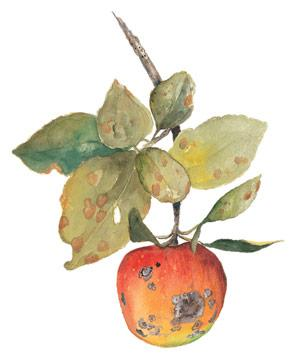Apple Scab Leaf: (58, 144, 151, 284), (167, 102, 278, 194), (88, 74, 157, 158), (132, 140, 193, 208), (200, 167, 267, 228), (146, 63, 193, 143)
